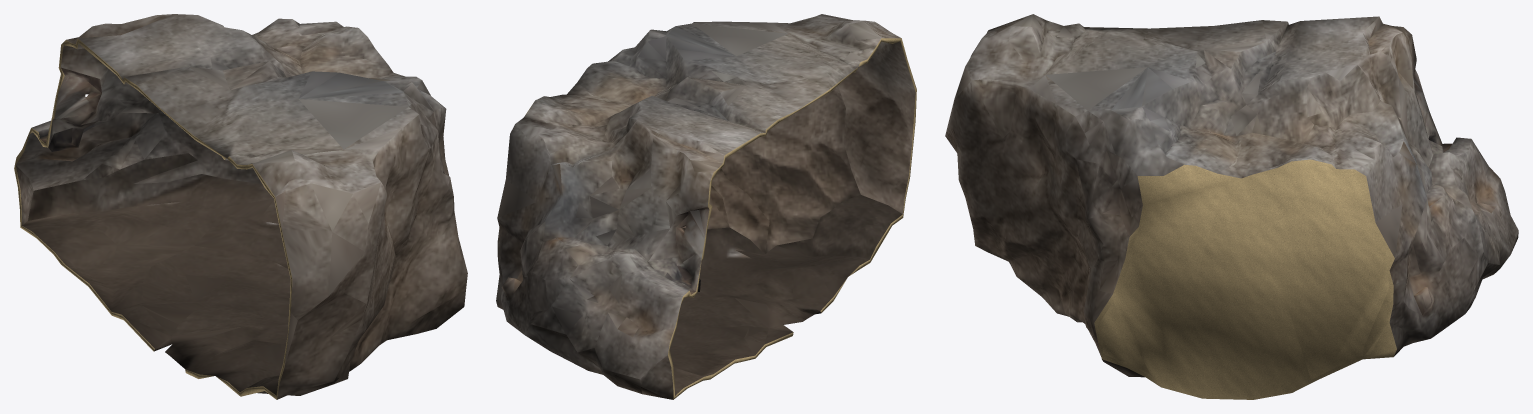
Rendered from shellstone-v1-recovered-lod0.gltf.
3 renders of one model, left to right at view 1: azimuth 30°, elevation 25°; view 2: azimuth 150°, elevation 25°; view 3: azimuth 270°, elevation 25°, orthographic. The views are drawn at different scales.
Parts seen in each view (by area): view 1: shellstone-v1-recovered-lod0; view 2: shellstone-v1-recovered-lod0; view 3: shellstone-v1-recovered-lod0.
Boxes of the visible parts, box(x1,y1,x2,y2) form: shellstone-v1-recovered-lod0: box(14, 14, 467, 399); shellstone-v1-recovered-lod0: box(496, 14, 916, 399); shellstone-v1-recovered-lod0: box(945, 14, 1518, 399).
Bounding box in the file's own units: 0.1852 × 0.1977 × 0.3769.
2 materials, 2 textured.
